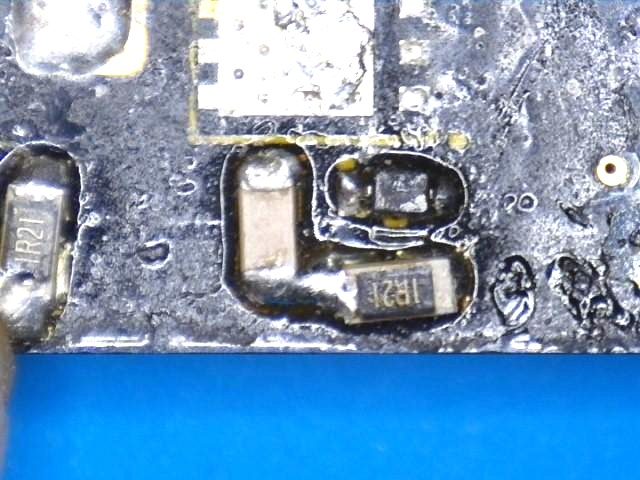pcb_defect: (322, 249, 463, 325), (239, 251, 355, 318)
